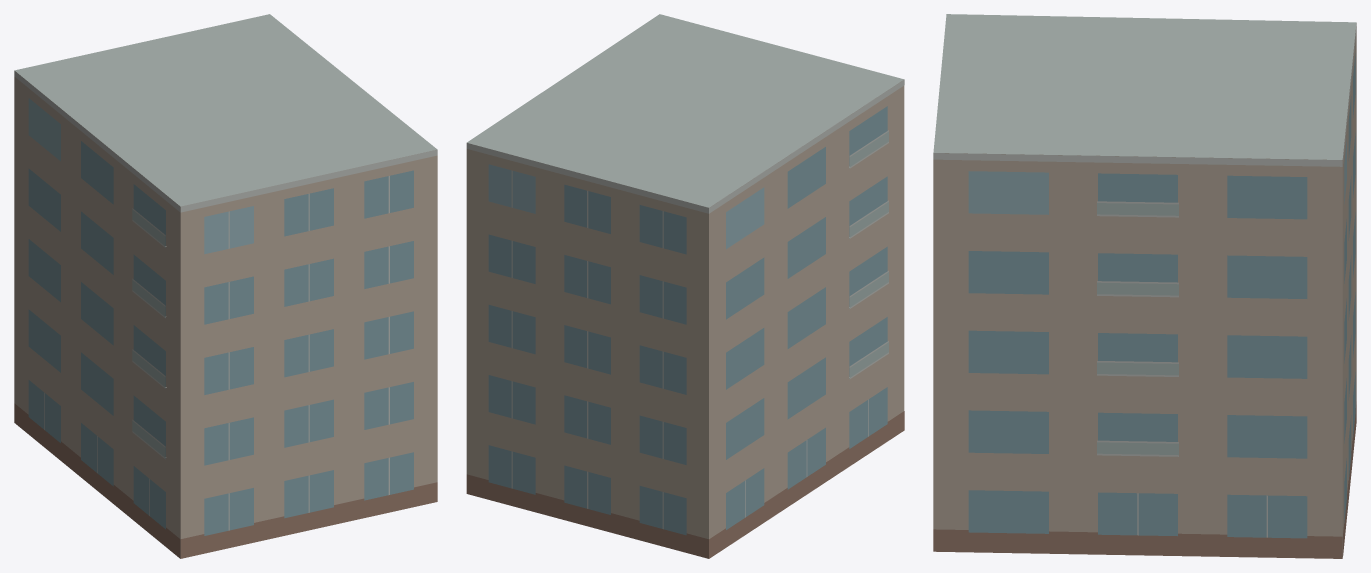
The model's file is survey-upis-32837354.glb.
3 views of the same model, side by side, from view 1: azimuth 30°, elevation 25°; view 2: azimuth 150°, elevation 25°; view 3: azimuth 270°, elevation 25° (orthographic). The views are drawn at different scales.
Parts seen in each view (by area): view 1: survey-upis-32837354.tmp; view 2: survey-upis-32837354.tmp; view 3: survey-upis-32837354.tmp.
Boxes of the visible parts, bbox=[...] form: survey-upis-32837354.tmp: bbox=[14, 14, 437, 558]; survey-upis-32837354.tmp: bbox=[466, 14, 904, 558]; survey-upis-32837354.tmp: bbox=[933, 14, 1356, 558].
Bounding box in the file's own units: 11.24 × 14.3 × 13.76.
